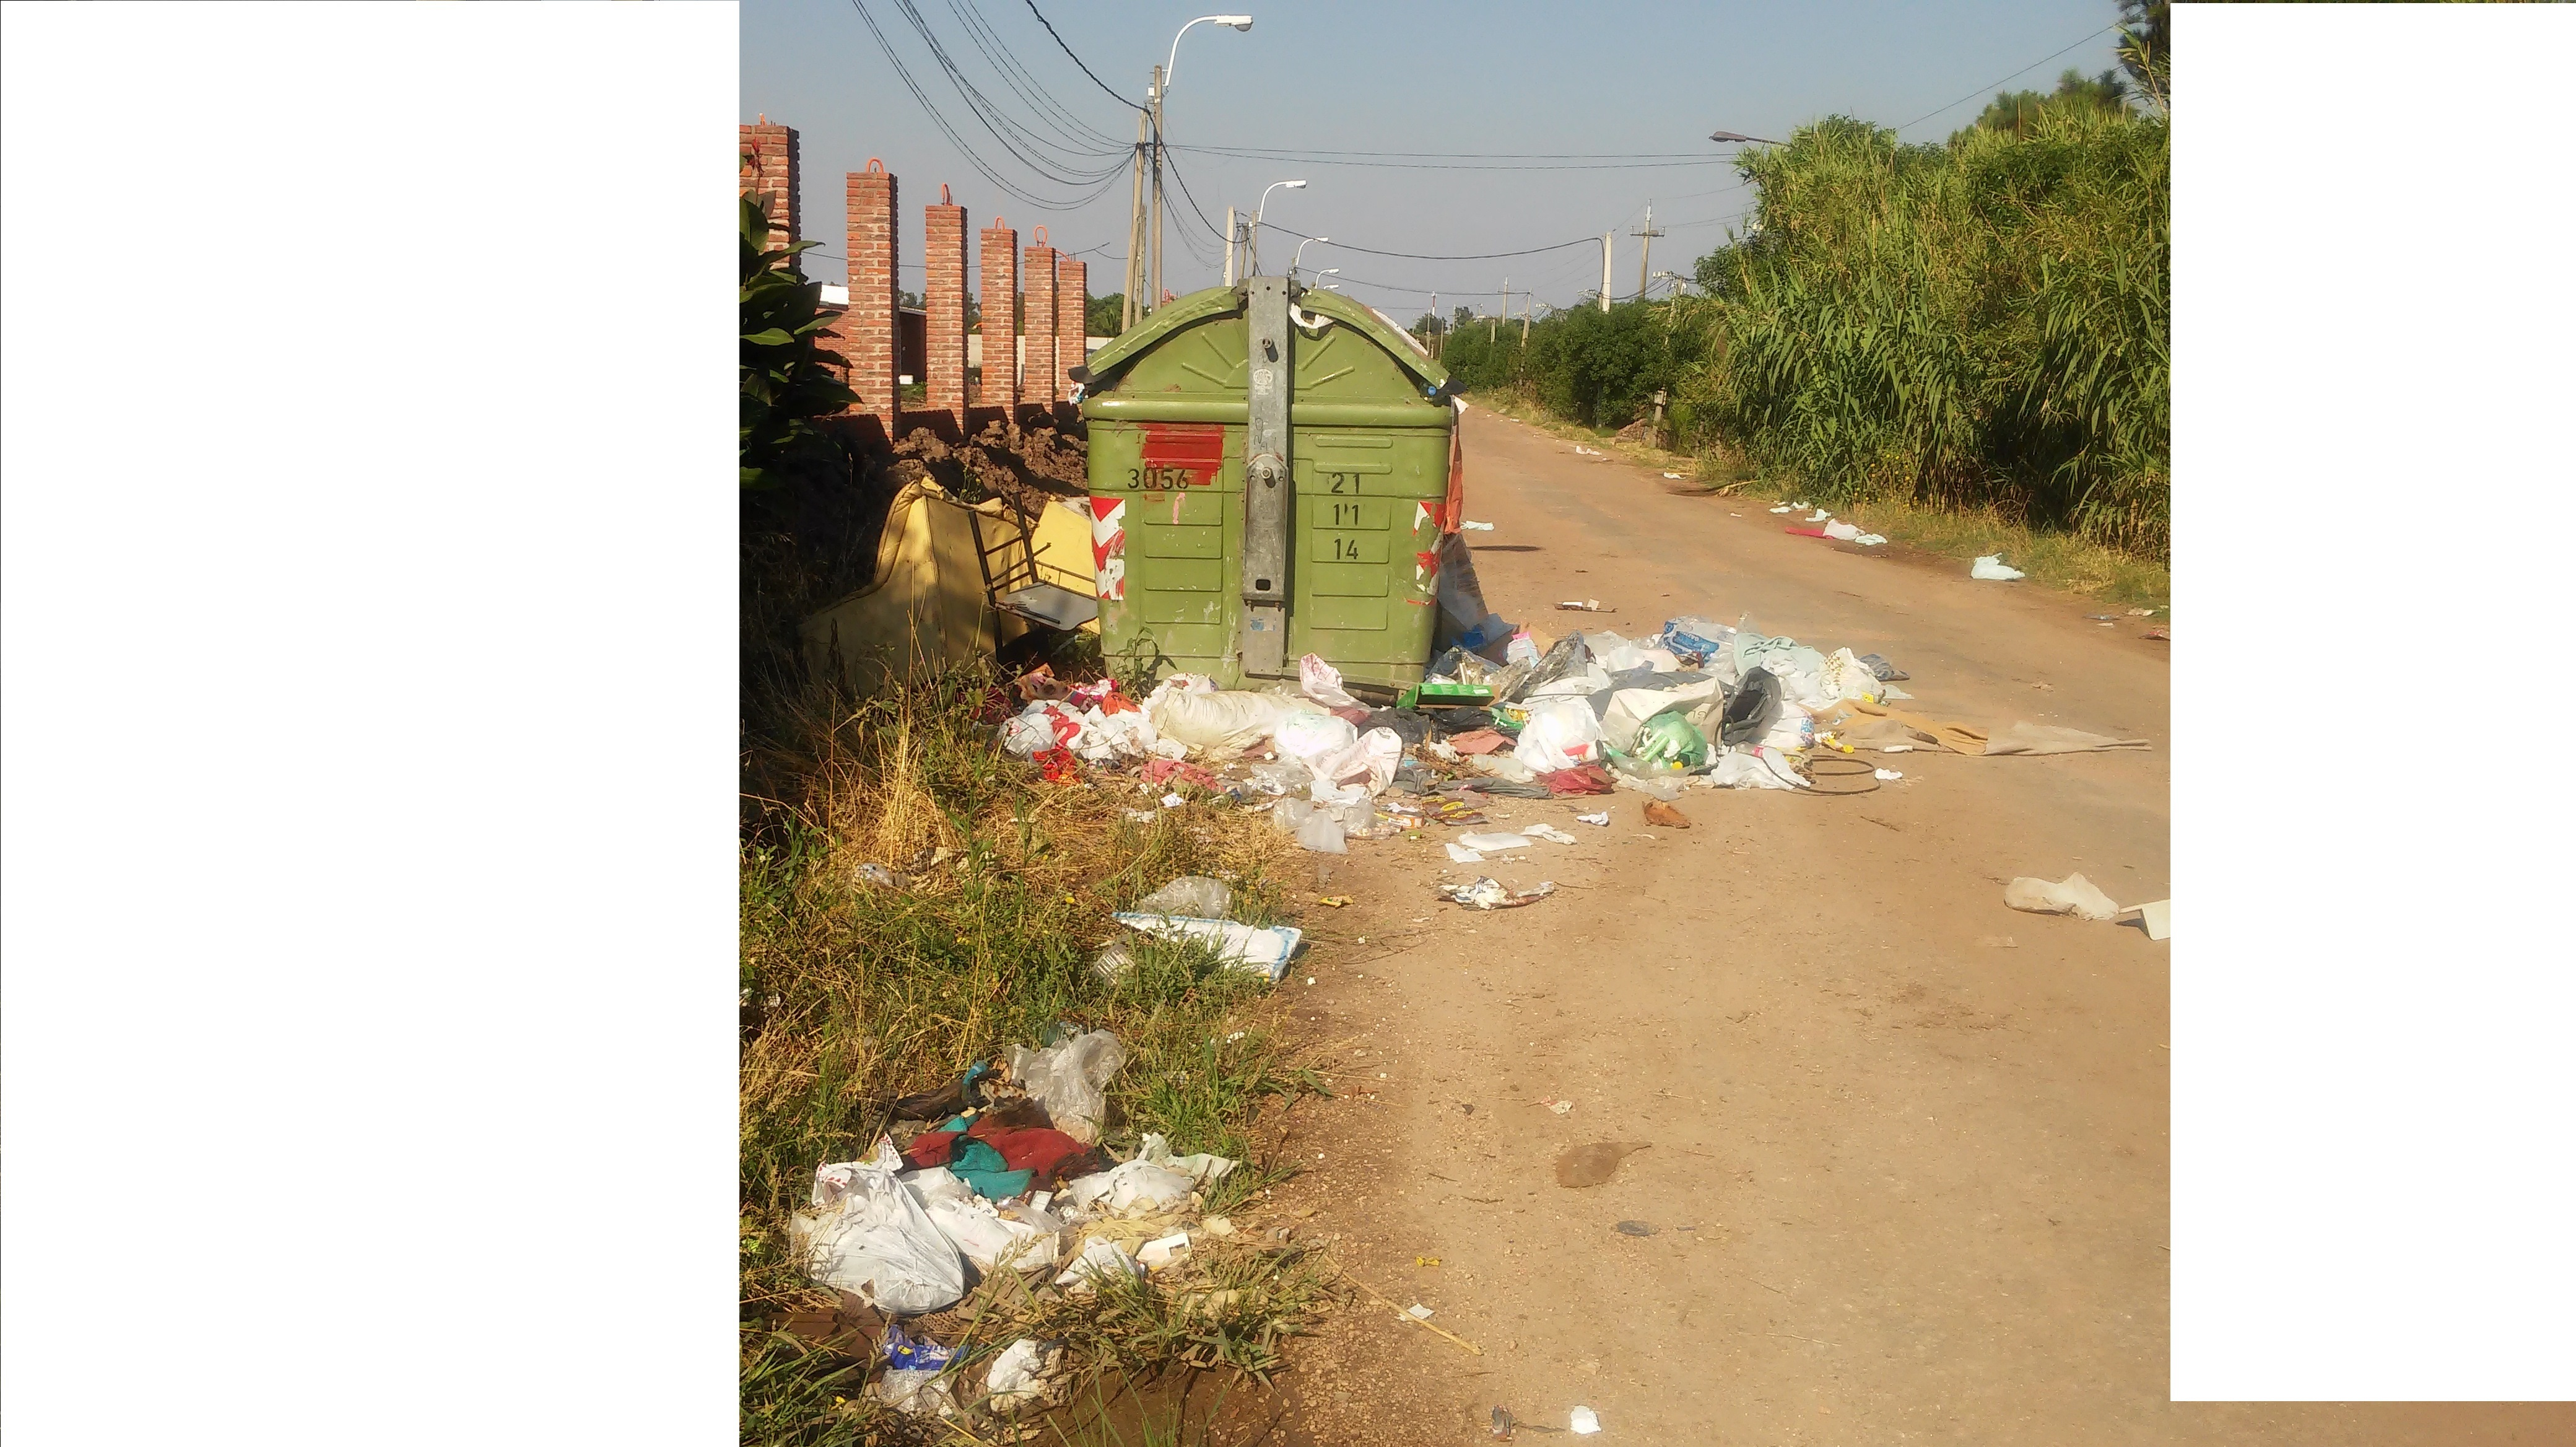container: (1074, 256, 1454, 713)
